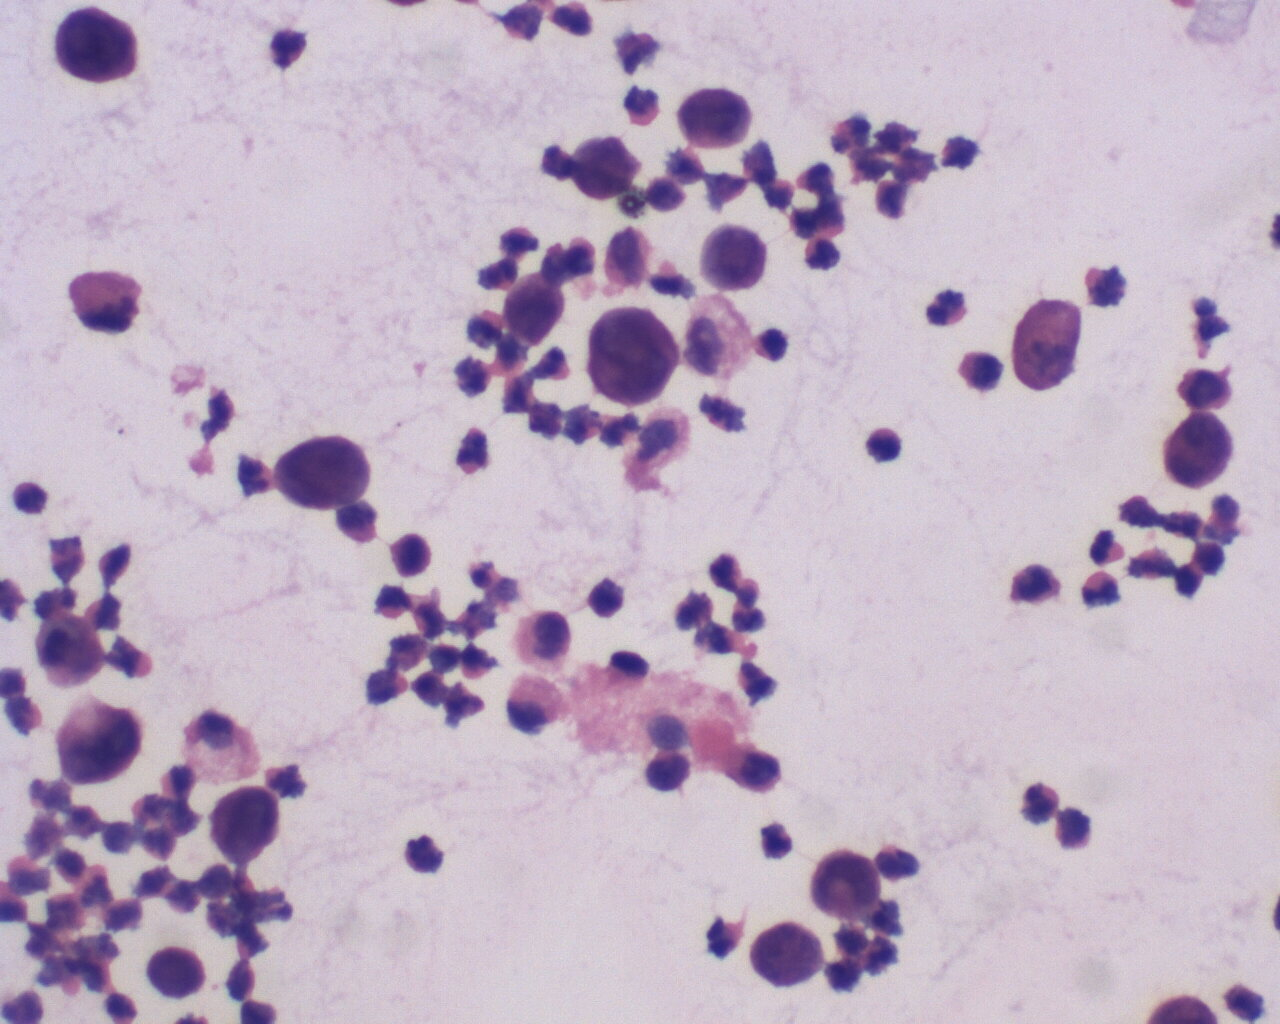ab: (586, 302, 683, 413), (267, 427, 374, 512), (54, 691, 144, 786), (52, 7, 141, 89), (1145, 409, 1234, 490), (204, 785, 288, 863), (669, 78, 755, 153), (809, 848, 888, 923), (504, 266, 573, 349), (563, 129, 639, 203), (749, 917, 823, 992), (698, 225, 769, 295), (145, 944, 216, 1002)
neutro: (924, 283, 976, 330), (269, 26, 319, 72), (1079, 569, 1125, 618), (546, 1, 597, 41)
